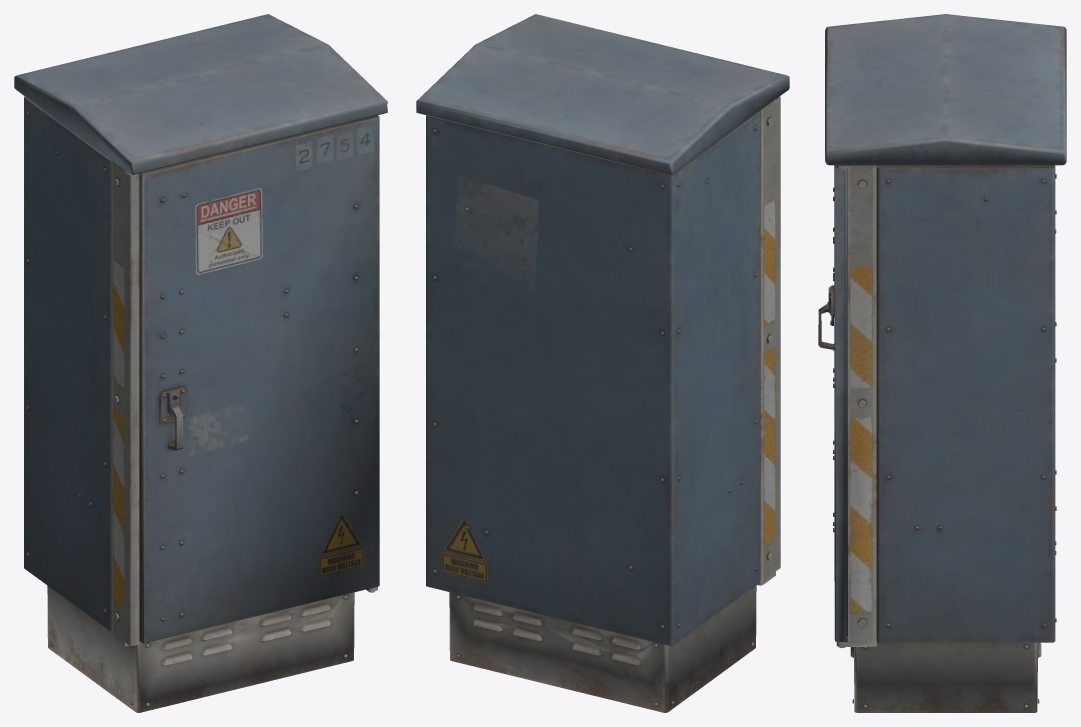
Rendered from utility-box-01.glb.
3 renders of one model, left to right at view 1: azimuth 30°, elevation 25°; view 2: azimuth 150°, elevation 25°; view 3: azimuth 270°, elevation 25°, orthographic.
Visible parts, largest first — view 1: utility_box_01_box; view 2: utility_box_01_box; view 3: utility_box_01_box.
Part boxes in pixels (x1,y1,x2,y2): utility_box_01_box: [14, 14, 387, 712]; utility_box_01_box: [416, 14, 789, 712]; utility_box_01_box: [818, 14, 1066, 712].
Bounding box in the file's own units: 0.52 × 1.12 × 0.432.
1 material, 1 textured.
